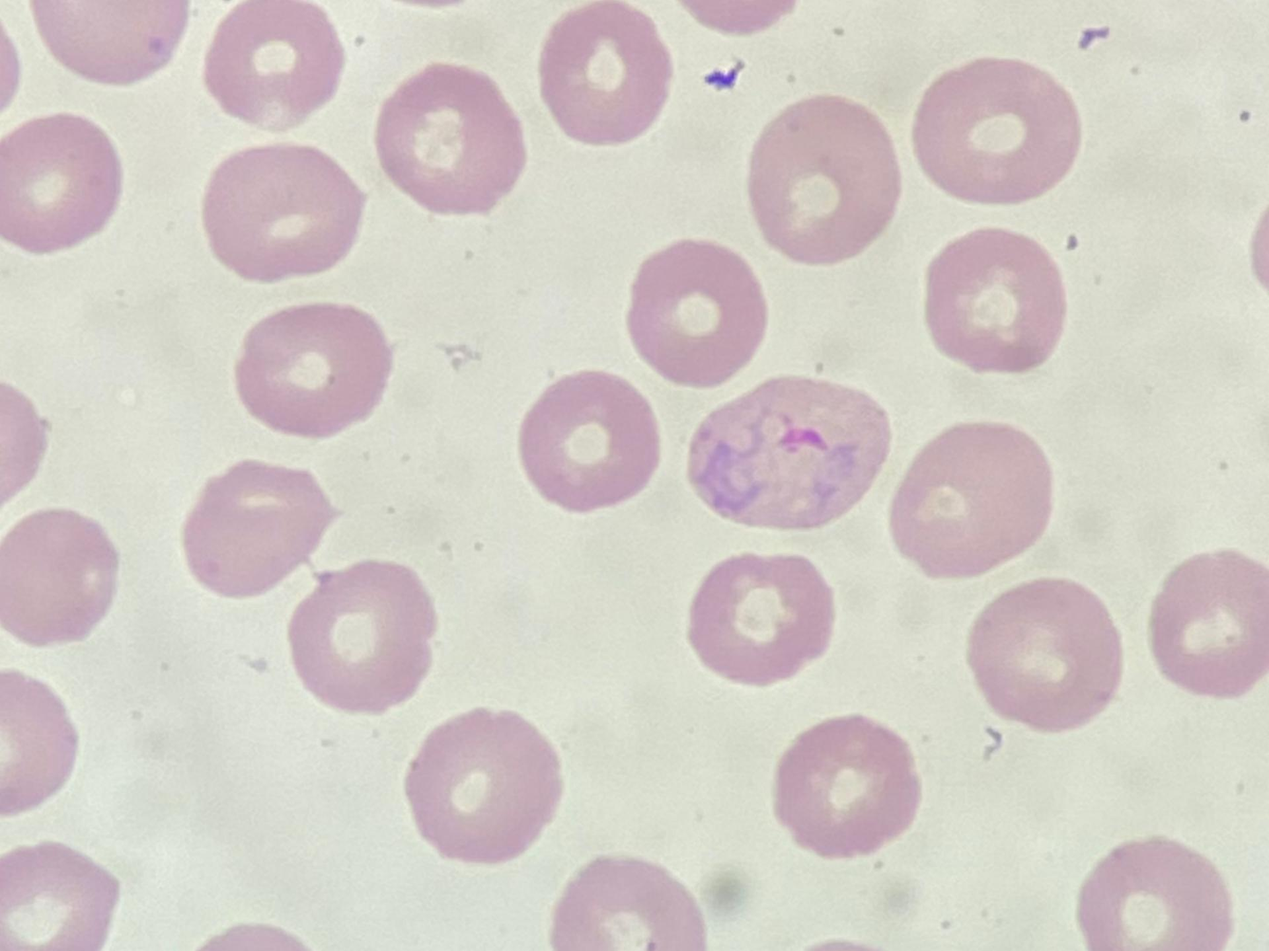Infected: (684, 374, 895, 533)
Uninfected: (891, 418, 1055, 578), (408, 706, 569, 867), (753, 93, 901, 263), (288, 559, 440, 719), (915, 58, 1079, 204), (972, 580, 1123, 734), (377, 63, 527, 216), (183, 463, 344, 600), (202, 147, 366, 279), (777, 714, 925, 858), (924, 228, 1066, 377), (628, 237, 766, 382), (238, 300, 389, 431), (537, 4, 675, 144), (691, 551, 832, 685), (525, 370, 662, 506), (1081, 833, 1236, 951), (207, 4, 340, 130), (0, 111, 117, 253), (1157, 551, 1269, 699), (0, 508, 117, 645), (550, 858, 708, 951), (0, 838, 122, 951)
